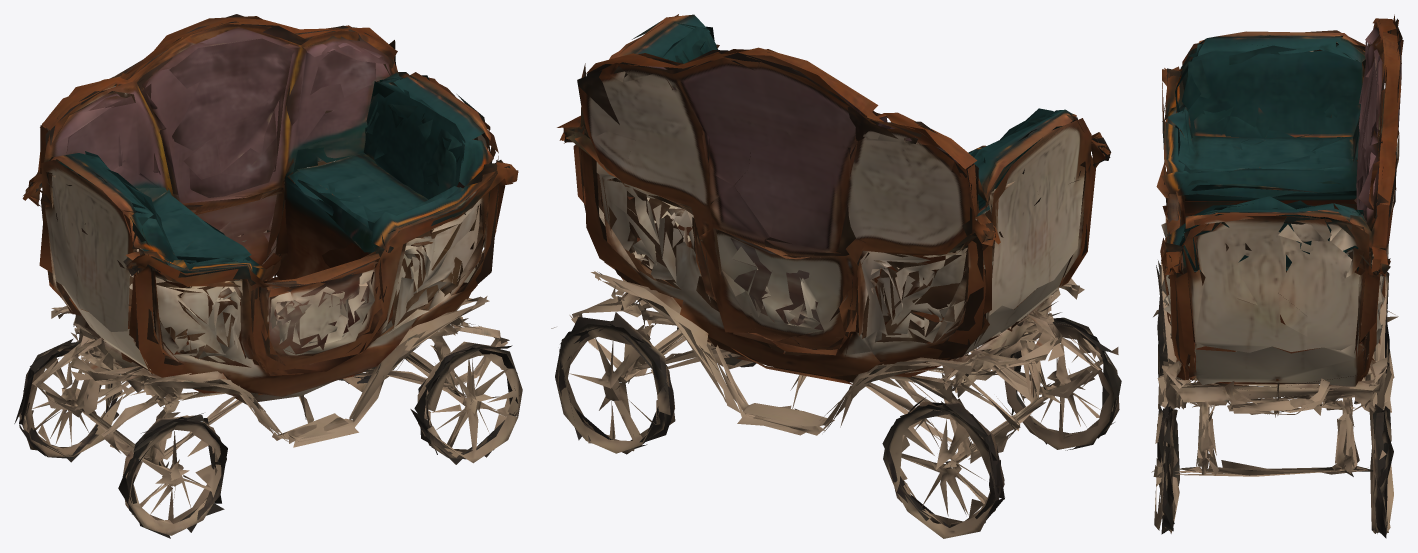
The model's file is unified--detail--carousel-carriage.glb.
The picture shows the model from 3 angles, left to right: view 1: azimuth 30°, elevation 25°; view 2: azimuth 150°, elevation 25°; view 3: azimuth 270°, elevation 25°; orthographic projection. The views are drawn at different scales.
Parts seen in each view (by area): view 1: carousel-carriage-1; view 2: carousel-carriage-1; view 3: carousel-carriage-1.
Boxes of the visible parts, left/top/right/bottom form: carousel-carriage-1: left=14, top=14, right=522, bottom=538; carousel-carriage-1: left=551, top=14, right=1121, bottom=538; carousel-carriage-1: left=1151, top=14, right=1403, bottom=538.
Bounding box in the file's own units: 2.23 × 2.08 × 1.16.
Materials: 1 (1 with a texture image).
